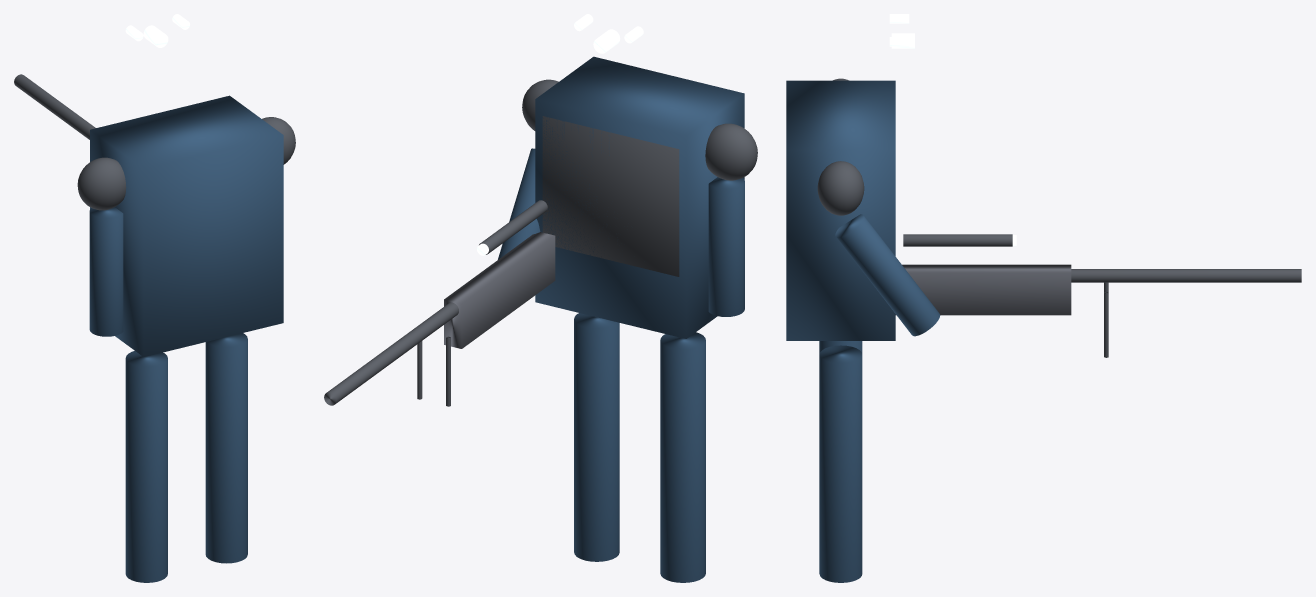
The model's file is Flanker_Ghost_Marksman.fbx.
The picture shows the model from 3 angles, left to right: view 1: azimuth 30°, elevation 25°; view 2: azimuth 150°, elevation 25°; view 3: azimuth 270°, elevation 25°; orthographic projection. The views are drawn at different scales.
Parts seen in each view (by area): view 1: Torso_Stealth, Leg_L, Leg_R, Arm_L, Pauldron_L, DMR_SuppressedBarrel, Pauldron_R, Cyan_Optic_Main; view 2: Torso_Stealth, Stealth_ChestHarness, Leg_L, Leg_R, Flanker_DMR, Arm_L, Pauldron_L, DMR_SuppressedBarrel, Arm_R, Sniper_Scope, Pauldron_R; view 3: Torso_Stealth, Leg_R, Flanker_DMR, Arm_R, DMR_SuppressedBarrel, Pauldron_R, Sniper_Scope.
Part boxes in pixels (x1=…): Torso_Stealth: x1=90, y1=95, x2=283, y2=356; Leg_L: x1=125, y1=351, x2=167, y2=582; Leg_R: x1=205, y1=333, x2=247, y2=563; Arm_L: x1=89, y1=207, x2=123, y2=336; Pauldron_L: x1=77, y1=157, x2=126, y2=210; DMR_SuppressedBarrel: x1=14, y1=74, x2=95, y2=139; Pauldron_R: x1=262, y1=117, x2=295, y2=164; Cyan_Optic_Main: x1=143, y1=25, x2=168, y2=47; Torso_Stealth: x1=535, y1=56, x2=744, y2=338; Stealth_ChestHarness: x1=542, y1=116, x2=679, y2=276; Leg_L: x1=660, y1=332, x2=705, y2=582; Leg_R: x1=574, y1=313, x2=619, y2=561; Flanker_DMR: x1=444, y1=232, x2=555, y2=348; Arm_L: x1=708, y1=177, x2=744, y2=316; Pauldron_L: x1=705, y1=123, x2=757, y2=180; DMR_SuppressedBarrel: x1=324, y1=302, x2=458, y2=405; Arm_R: x1=498, y1=148, x2=540, y2=259; Sniper_Scope: x1=479, y1=200, x2=547, y2=254; Pauldron_R: x1=522, y1=79, x2=558, y2=130; Torso_Stealth: x1=786, y1=80, x2=895, y2=340; Leg_R: x1=819, y1=345, x2=862, y2=582; Flanker_DMR: x1=895, y1=264, x2=1071, y2=315; Arm_R: x1=835, y1=214, x2=940, y2=336; DMR_SuppressedBarrel: x1=1071, y1=269, x2=1301, y2=282; Pauldron_R: x1=817, y1=161, x2=864, y2=215; Sniper_Scope: x1=903, y1=234, x2=1012, y2=246.
Bounding box in the file's own units: 61.44 × 143 × 127.
